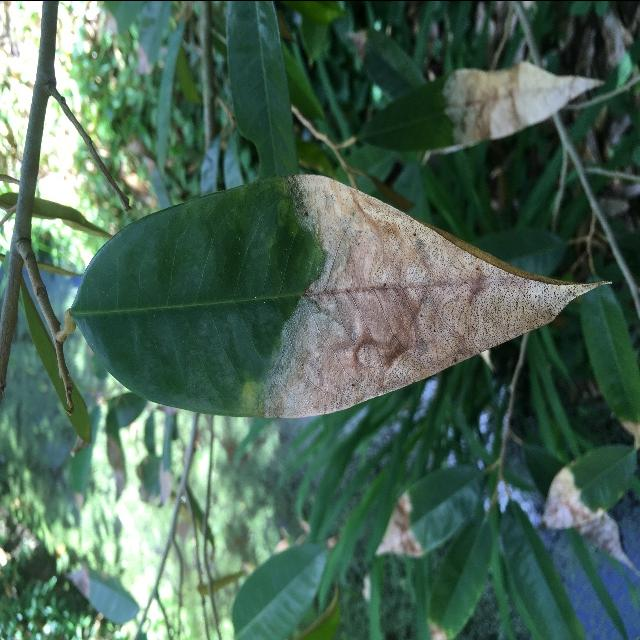Leaf Blight: (57, 163, 621, 429)
